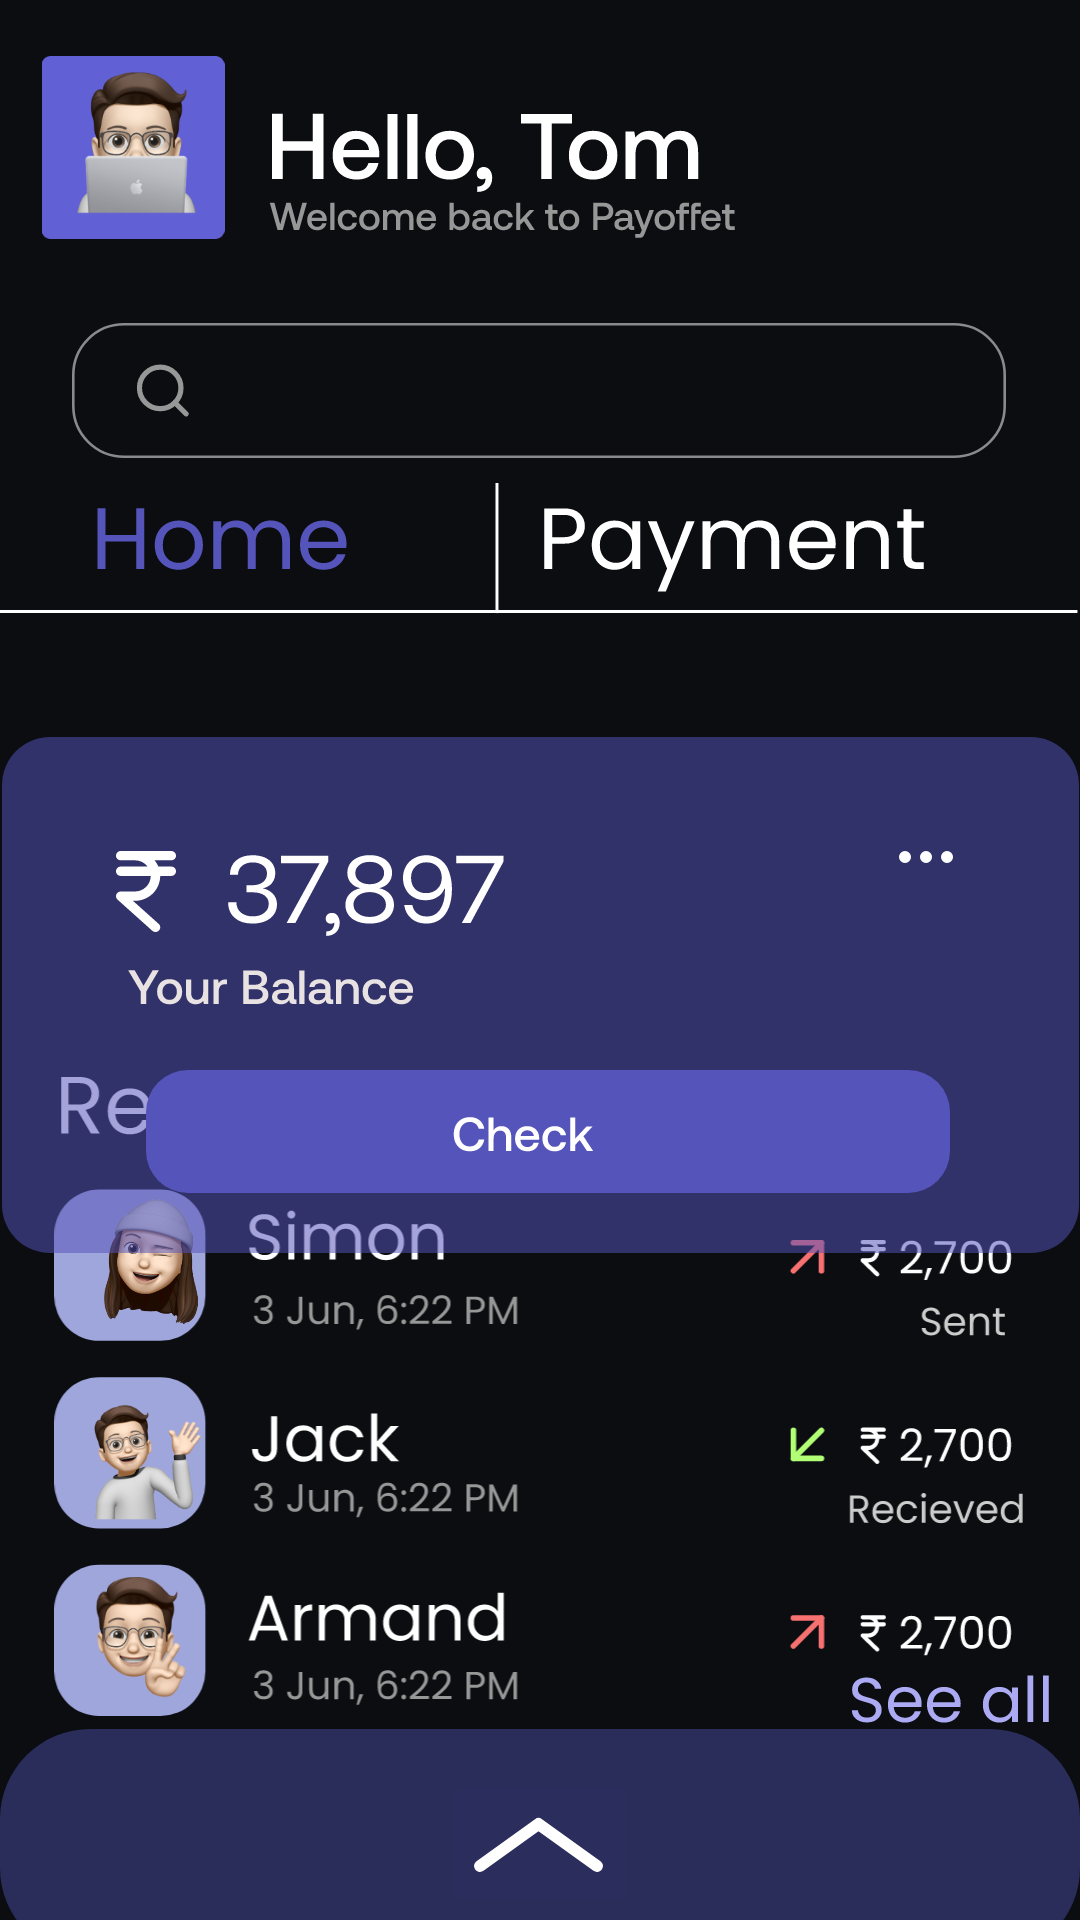

Where to tap for icons on this 1080×1920 app screen, as (x,y):
swipe: (538,1844)
